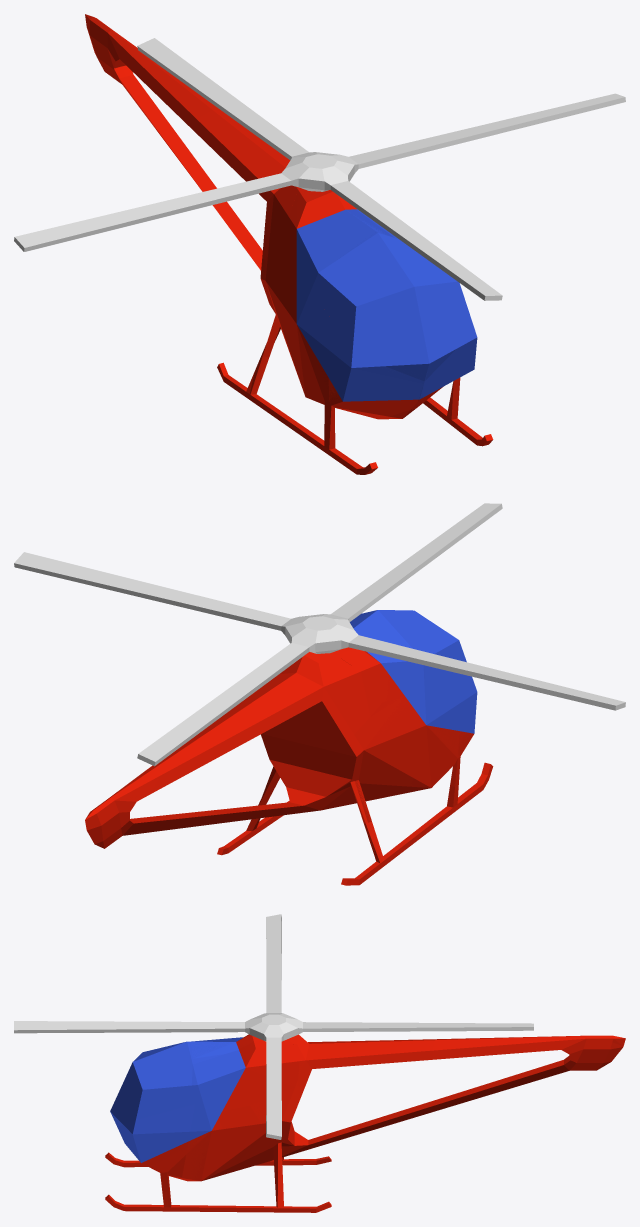
Rendered from Minicopter.fbx.
3 renders of one model, top to bottom at view 1: azimuth 30°, elevation 25°; view 2: azimuth 150°, elevation 25°; view 3: azimuth 270°, elevation 25°, orthographic. The views are drawn at different scales.
Parts seen in each view (by area): view 1: Helicopter, Rotor, Helicopter_cell.017, Helicopter_cell.002, Helicopter_cell.013, Helicopter_cell.022, Helicopter_cell.035, Helicopter_cell.019, Helicopter_cell.025, Helicopter_cell.023, Helicopter_cell.015, Helicopter_cell.003 (+1 smaller); view 2: Helicopter, Rotor, Helicopter_cell.022, Helicopter_cell.025, Helicopter_cell.023, Helicopter_cell.017, Helicopter_cell.002, Helicopter_cell.035, Helicopter_cell.026, Helicopter_cell.003, Helicopter_cell.013, Helicopter_cell.020 (+2 smaller); view 3: Helicopter, Rotor, Helicopter_cell.017, Helicopter_cell.015, Helicopter_cell.031, Helicopter_cell.022, Helicopter_cell.012, Helicopter_cell.035, Helicopter_cell.011, Helicopter_cell.003, Helicopter_cell.001, Helicopter_cell.019 (+3 smaller).
Boxes of the visible parts, x1,y1,x2,y2 form: Helicopter: (85, 14, 492, 474); Rotor: (14, 38, 625, 300); Helicopter_cell.017: (312, 232, 470, 381); Helicopter_cell.002: (289, 190, 393, 291); Helicopter_cell.013: (328, 324, 423, 425); Helicopter_cell.022: (194, 111, 299, 258); Helicopter_cell.035: (130, 65, 222, 130); Helicopter_cell.019: (115, 67, 216, 191); Helicopter_cell.025: (260, 259, 303, 365); Helicopter_cell.023: (295, 291, 333, 427); Helicopter_cell.015: (412, 320, 477, 408); Helicopter_cell.003: (218, 201, 262, 270); Helicopter: (85, 610, 492, 885); Rotor: (14, 503, 625, 766); Helicopter_cell.022: (213, 652, 370, 750); Helicopter_cell.025: (343, 690, 423, 822); Helicopter_cell.023: (398, 679, 459, 794); Helicopter_cell.017: (352, 610, 467, 681); Helicopter_cell.002: (329, 611, 424, 700); Helicopter_cell.035: (145, 729, 229, 794); Helicopter_cell.026: (312, 736, 367, 823); Helicopter_cell.003: (211, 738, 324, 813); Helicopter_cell.013: (450, 676, 477, 783); Helicopter_cell.020: (364, 822, 421, 866); Helicopter: (105, 1035, 625, 1212); Rotor: (14, 914, 533, 1139); Helicopter_cell.017: (110, 1041, 194, 1127); Helicopter_cell.015: (117, 1104, 194, 1191); Helicopter_cell.031: (191, 1044, 298, 1112); Helicopter_cell.022: (289, 1034, 432, 1087); Helicopter_cell.012: (216, 1105, 284, 1179); Helicopter_cell.035: (432, 1037, 542, 1059); Helicopter_cell.011: (182, 1105, 237, 1180); Helicopter_cell.003: (263, 1106, 426, 1162); Helicopter_cell.001: (250, 1086, 304, 1143); Helicopter_cell.019: (431, 1056, 576, 1106).
Bounding box in the file's own units: 956 × 341 × 1125.
